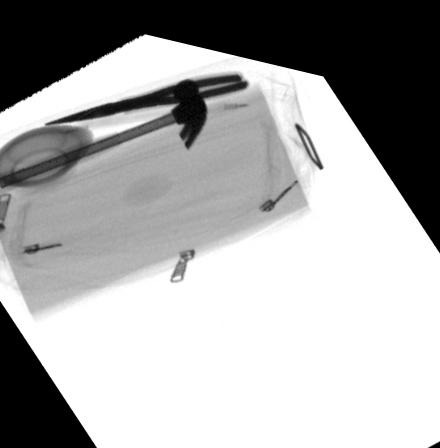Hammer: (0, 71, 209, 196)
Pliers: (45, 60, 251, 123)
